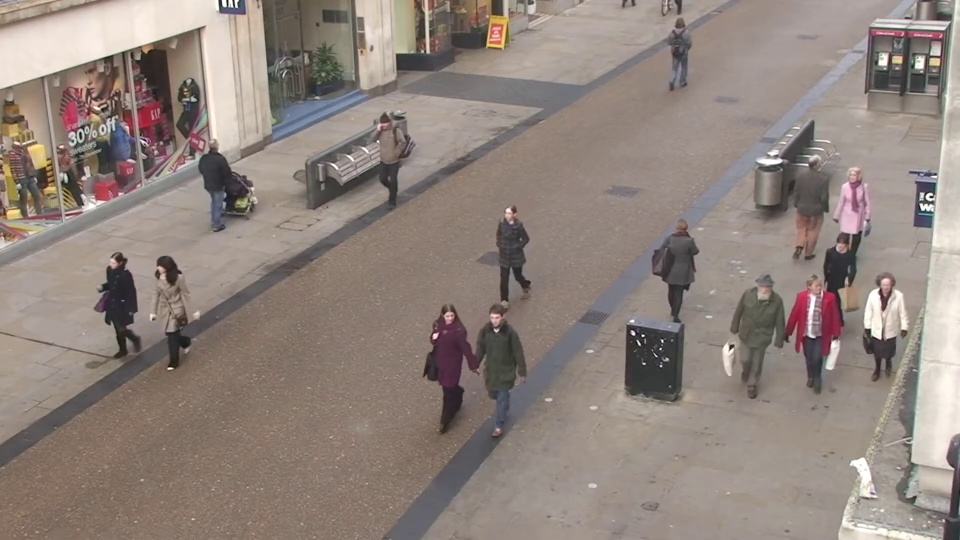pedestrian: (852, 273, 908, 412), (86, 251, 143, 379), (782, 274, 833, 412), (136, 253, 190, 383), (467, 304, 515, 449), (422, 300, 470, 443), (735, 278, 784, 417), (810, 230, 859, 357), (825, 167, 869, 278), (661, 210, 701, 332), (485, 200, 525, 320), (794, 148, 834, 253), (200, 136, 239, 234), (364, 114, 398, 208), (669, 13, 693, 81)
